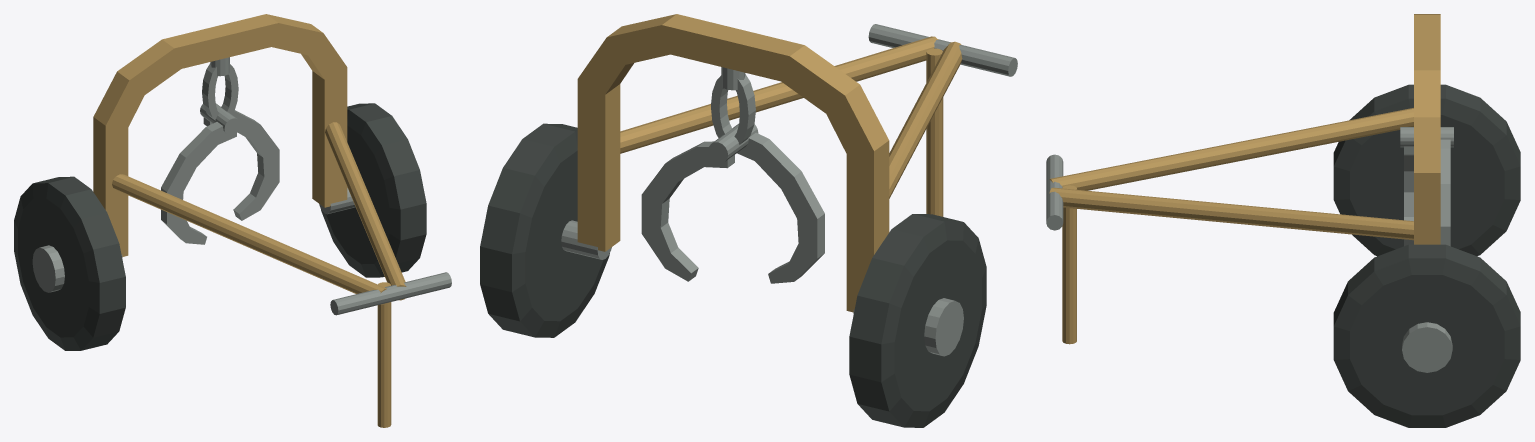
3 views of the same model, side by side, from view 1: azimuth 30°, elevation 25°; view 2: azimuth 150°, elevation 25°; view 3: azimuth 270°, elevation 25° (orthographic). The views are drawn at different scales.
Parts seen in each view (by area): view 1: WholeTallContinuousOpenArch, WholeBroadFlatFacetedWheel0, WholeBroadFlatFacetedWheel1, WholeConvergingDrawRail0, WholeConvergingDrawRail1, WholeOpenCurvedTongJaw0, WholeOpenCurvedTongJaw1, WholeTransverseHandGrip, WholeParkedSupportLeg, WholeOpenSuspensionLink, WholeOutboardWheelHub0, WholeFixedTongPivotPin; view 2: WholeTallContinuousOpenArch, WholeBroadFlatFacetedWheel0, WholeBroadFlatFacetedWheel1, WholeConvergingDrawRail1, WholeOpenCurvedTongJaw0, WholeOpenCurvedTongJaw1, WholeConvergingDrawRail0, WholeParkedSupportLeg, WholeTransverseHandGrip, WholeOpenSuspensionLink, WholeOutboardWheelHub0, WholeFixedTongPivotPin (+1 smaller); view 3: WholeBroadFlatFacetedWheel1, WholeBroadFlatFacetedWheel0, WholeConvergingDrawRail1, WholeConvergingDrawRail0, WholeTallContinuousOpenArch, WholeOutboardWheelHub1, WholeParkedSupportLeg, WholeOpenCurvedTongJaw1, WholeTransverseHandGrip, WholeOpenCurvedTongJaw0, WholeFixedTongPivotPin.
Boxes of the visible parts, box(x1,y1,x2,y2) form: WholeTallContinuousOpenArch: box(93, 14, 347, 256); WholeBroadFlatFacetedWheel0: box(14, 176, 125, 350); WholeBroadFlatFacetedWheel1: box(320, 103, 426, 277); WholeConvergingDrawRail0: box(112, 174, 386, 304); WholeConvergingDrawRail1: box(325, 122, 406, 300); WholeOpenCurvedTongJaw0: box(161, 122, 236, 244); WholeOpenCurvedTongJaw1: box(203, 110, 279, 220); WholeTransverseHandGrip: box(330, 272, 451, 315); WholeParkedSupportLeg: box(377, 282, 391, 427); WholeOpenSuspensionLink: box(202, 63, 238, 120); WholeOutboardWheelHub0: box(32, 245, 64, 292); WholeFixedTongPivotPin: box(200, 103, 240, 135); WholeTallContinuousOpenArch: box(577, 14, 889, 312); WholeBroadFlatFacetedWheel0: box(849, 214, 986, 427); WholeBroadFlatFacetedWheel1: box(480, 123, 609, 337); WholeConvergingDrawRail1: box(620, 36, 938, 153); WholeOpenCurvedTongJaw0: box(737, 132, 824, 283); WholeOpenCurvedTongJaw1: box(641, 141, 734, 281); WholeConvergingDrawRail0: box(889, 41, 962, 198); WholeParkedSupportLeg: box(926, 48, 943, 216); WholeTransverseHandGrip: box(868, 24, 1017, 76); WholeOpenSuspensionLink: box(711, 74, 755, 144); WholeOutboardWheelHub0: box(924, 298, 963, 356); WholeFixedTongPivotPin: box(708, 123, 758, 162); WholeBroadFlatFacetedWheel1: box(1333, 244, 1520, 427); WholeBroadFlatFacetedWheel0: box(1333, 84, 1520, 256); WholeConvergingDrawRail1: box(1049, 187, 1413, 240); WholeConvergingDrawRail0: box(1049, 108, 1413, 190); WholeTallContinuousOpenArch: box(1414, 14, 1440, 244); WholeOutboardWheelHub1: box(1402, 322, 1452, 372); WholeParkedSupportLeg: box(1062, 185, 1076, 344); WholeOpenCurvedTongJaw1: box(1440, 139, 1450, 246); WholeTransverseHandGrip: box(1046, 154, 1063, 230); WholeOpenCurvedTongJaw0: box(1404, 146, 1413, 246); WholeFixedTongPivotPin: box(1400, 127, 1453, 147).
Size of the model in its own units: 1.49 by 1.11 by 1.59.
